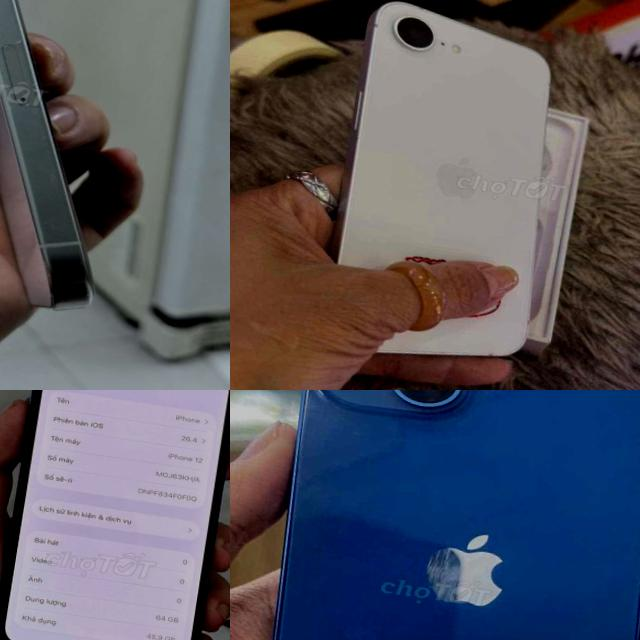gen_12_13: (242, 390, 640, 640), (0, 390, 230, 640)
gen_16: (331, 2, 549, 356), (0, 0, 92, 308)
